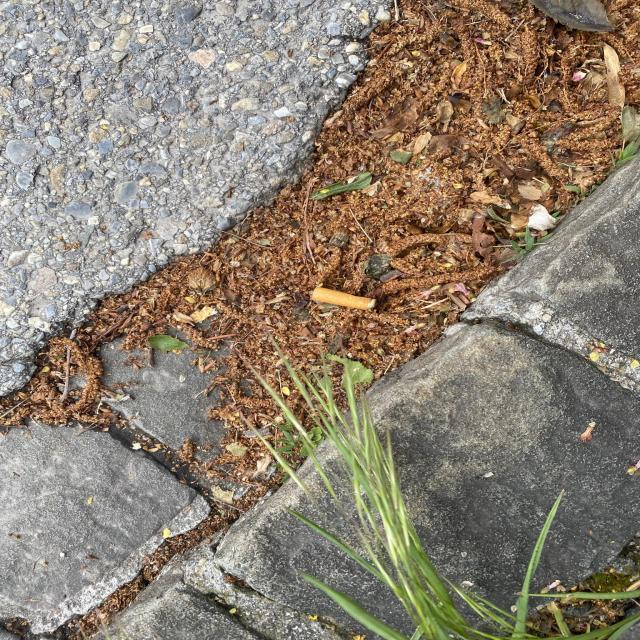other waste: (311, 286, 378, 312)
